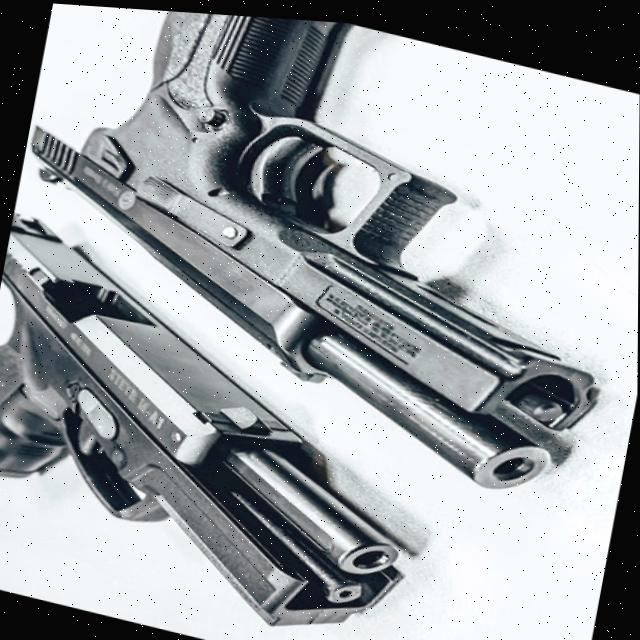pistol: (0, 0, 640, 505), (0, 209, 449, 640)
